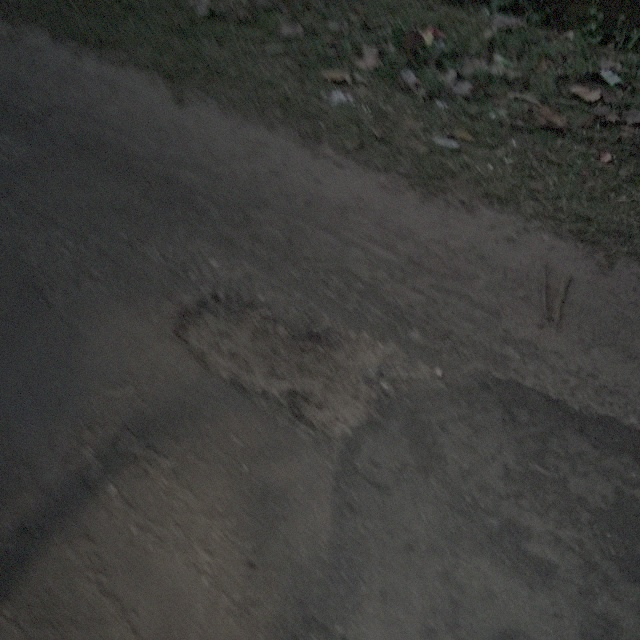pothole: (168, 288, 388, 436)
